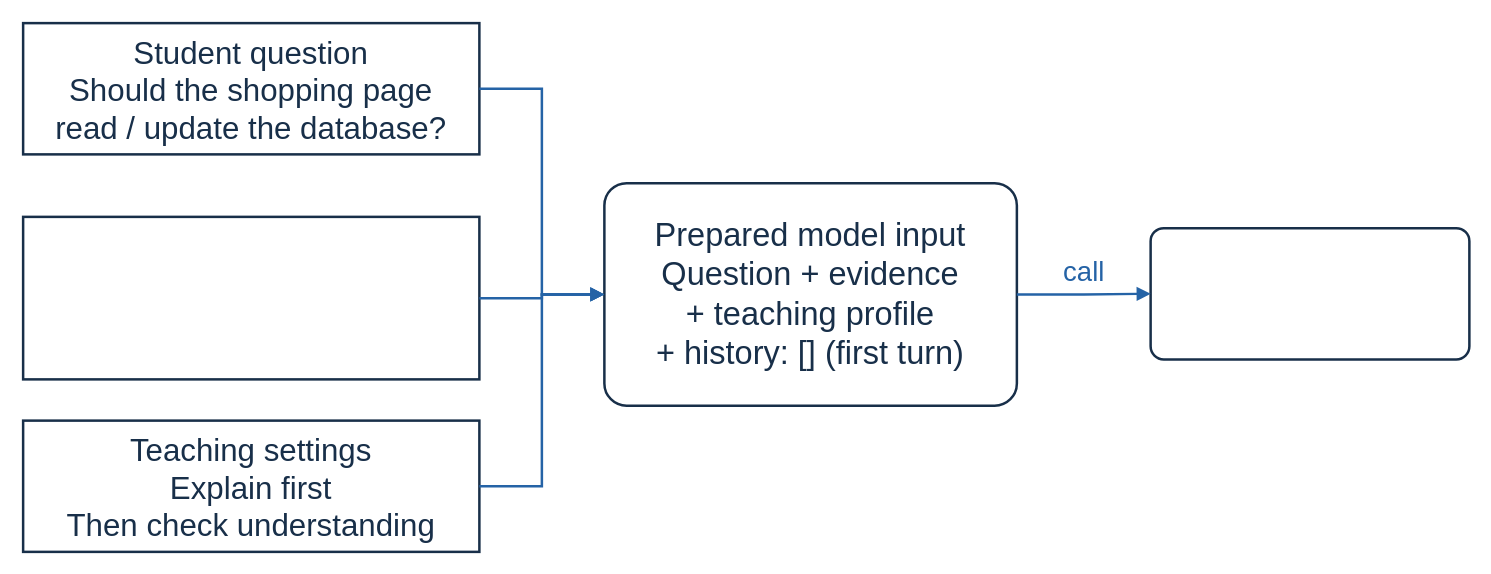
Some shapes in this 1491 by 574 pixel diagram are drawn without their labels. Here are the shapes that lost their labels. From the top down, the box of each, then its label:
(21, 215, 480, 380): Course evidence Page → Business Logic Business Logic → Data Access
(1149, 226, 1470, 360): Language model Draft the reply
